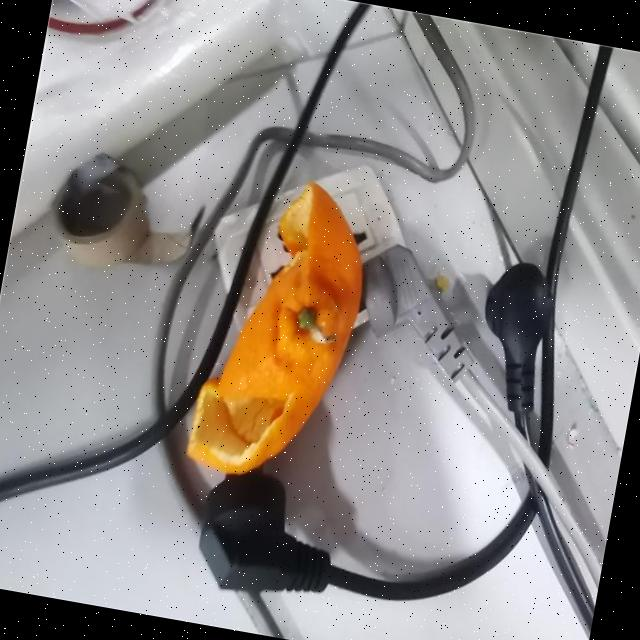orange-peel: (180, 166, 380, 492)
